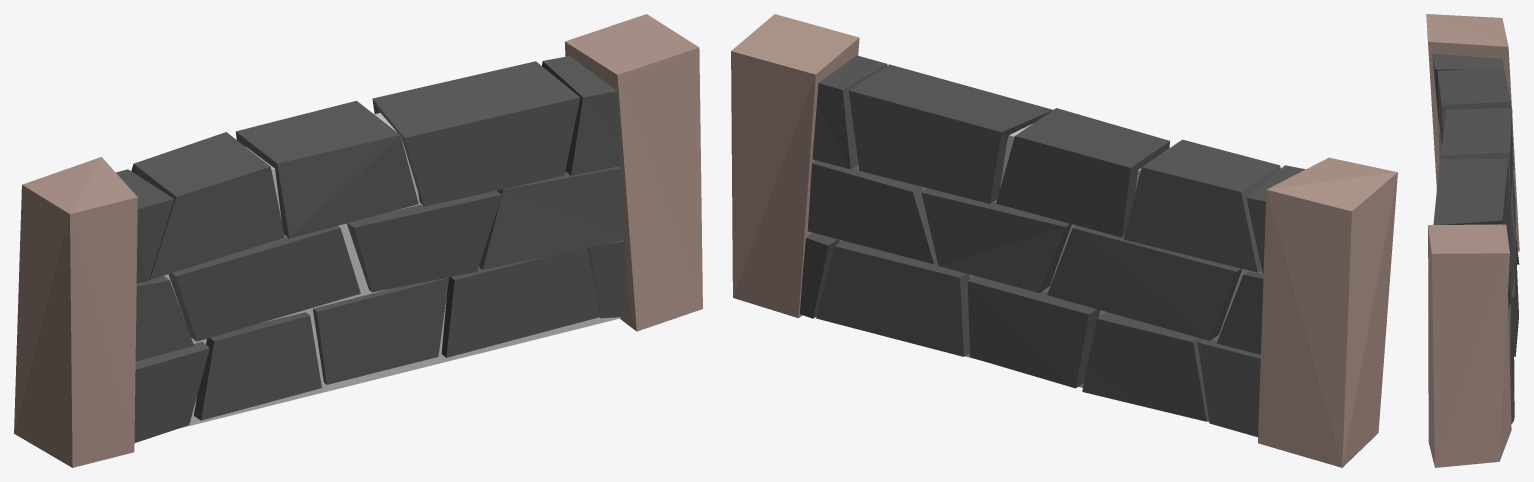
File: StoneFance.fbx
The picture shows the model from 3 angles, left to right: view 1: azimuth 30°, elevation 25°; view 2: azimuth 150°, elevation 25°; view 3: azimuth 270°, elevation 25°; orthographic projection. The views are drawn at different scales.
Visible parts, largest first — view 1: mesh985588079, mesh1299054, mesh1817549644, mesh1496942721, mesh228703815, mesh1177403203, mesh1666081505, mesh364885226, mesh1343047251, mesh412784191, mesh810626961, mesh1962026485 (+5 smaller); view 2: mesh985588079, mesh1299054, mesh1817549644, mesh1496942721, mesh1177403203, mesh228703815, mesh1666081505, mesh412784191, mesh1343047251, mesh810626961, mesh364885226, mesh1962026485 (+5 smaller); view 3: mesh1299054, mesh1817549644, mesh985588079, mesh1496942721, mesh228703815, mesh490063851, mesh412784191, mesh1343047251, mesh1666081505, mesh1177403203, mesh334904443.
Part boxes in pixels (<box>): mesh985588079: <box>14,157,137,467</box>; mesh1299054: <box>564,14,702,331</box>; mesh1817549644: <box>372,61,580,206</box>; mesh1496942721: <box>235,101,418,238</box>; mesh228703815: <box>131,132,284,279</box>; mesh1177403203: <box>168,226,360,341</box>; mesh1666081505: <box>441,248,600,357</box>; mesh364885226: <box>479,166,625,269</box>; mesh1343047251: <box>346,191,501,292</box>; mesh412784191: <box>313,277,448,384</box>; mesh810626961: <box>194,312,321,420</box>; mesh1962026485: <box>134,341,209,442</box>; mesh985588079: <box>1258,157,1397,467</box>; mesh1299054: <box>731,14,859,318</box>; mesh1817549644: <box>849,64,1052,203</box>; mesh1496942721: <box>996,108,1170,237</box>; mesh1177403203: <box>1047,225,1241,340</box>; mesh228703815: <box>1124,139,1280,272</box>; mesh1666081505: <box>816,240,970,356</box>; mesh412784191: <box>967,275,1099,388</box>; mesh1343047251: <box>921,188,1071,292</box>; mesh810626961: <box>1082,312,1208,421</box>; mesh364885226: <box>807,160,937,264</box>; mesh1962026485: <box>1197,339,1260,437</box>; mesh1299054: <box>1428,224,1511,467</box>; mesh1817549644: <box>1433,158,1509,242</box>; mesh985588079: <box>1426,14,1519,251</box>; mesh1496942721: <box>1441,107,1512,216</box>; mesh228703815: <box>1437,67,1513,169</box>; mesh490063851: <box>1432,53,1503,122</box>; mesh412784191: <box>1511,250,1518,356</box>; mesh1343047251: <box>1508,208,1516,304</box>; mesh1666081505: <box>1508,303,1514,417</box>; mesh1177403203: <box>1441,140,1516,256</box>; mesh334904443: <box>1509,353,1514,424</box>.
Size of the model in its own units: 121 by 49.3 by 19.1.
